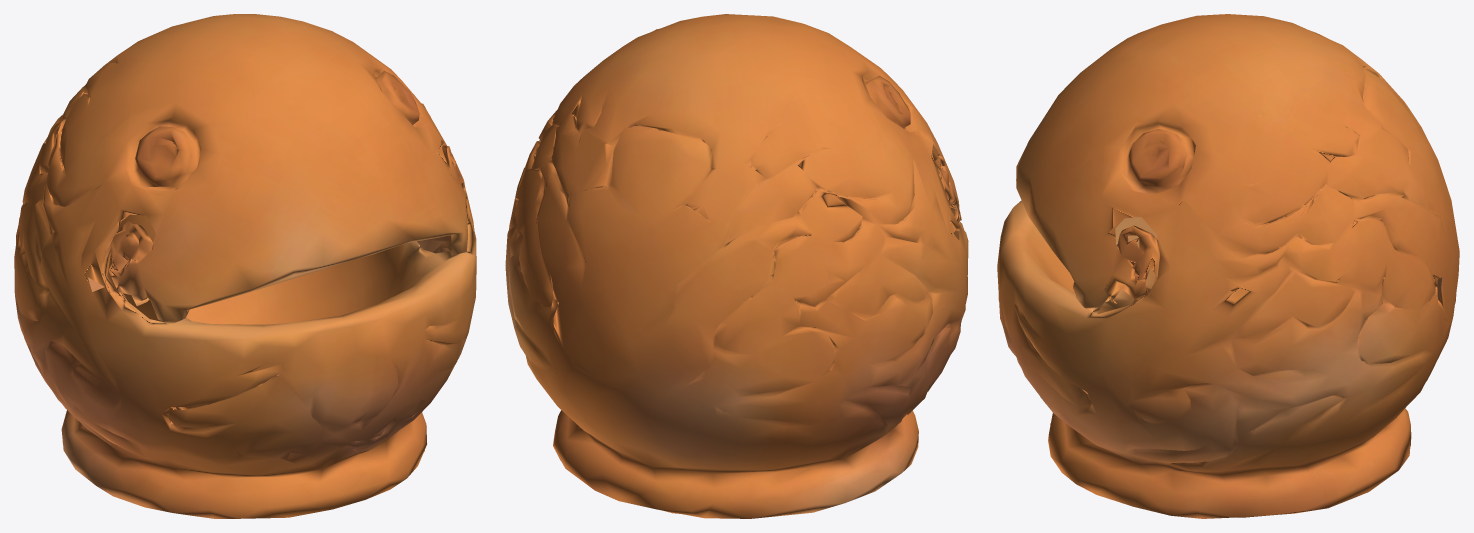
3 renders of one model, left to right at view 1: azimuth 30°, elevation 25°; view 2: azimuth 150°, elevation 25°; view 3: azimuth 270°, elevation 25°, orthographic.
Bounding box in the file's own units: 0.5635 × 0.55 × 0.5644.
Materials: 1 (1 with a texture image).
